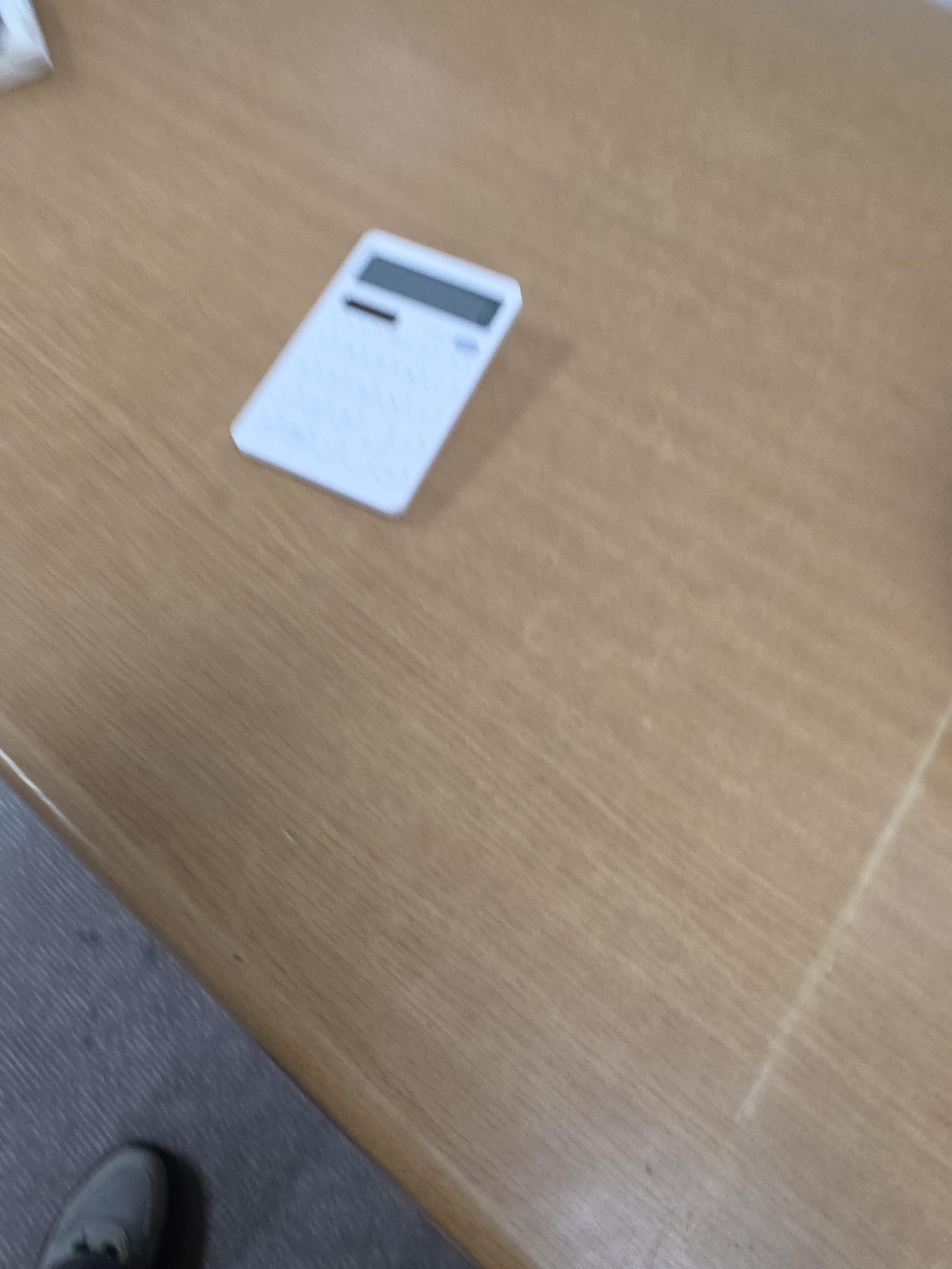calculator: (229, 227, 522, 519)
